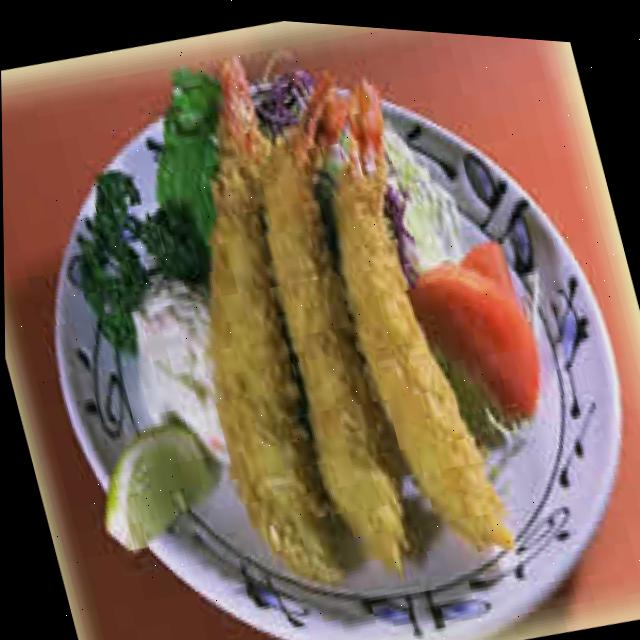炸货点心: (126, 13, 528, 624)
熟制海鲜: (126, 13, 528, 624)
